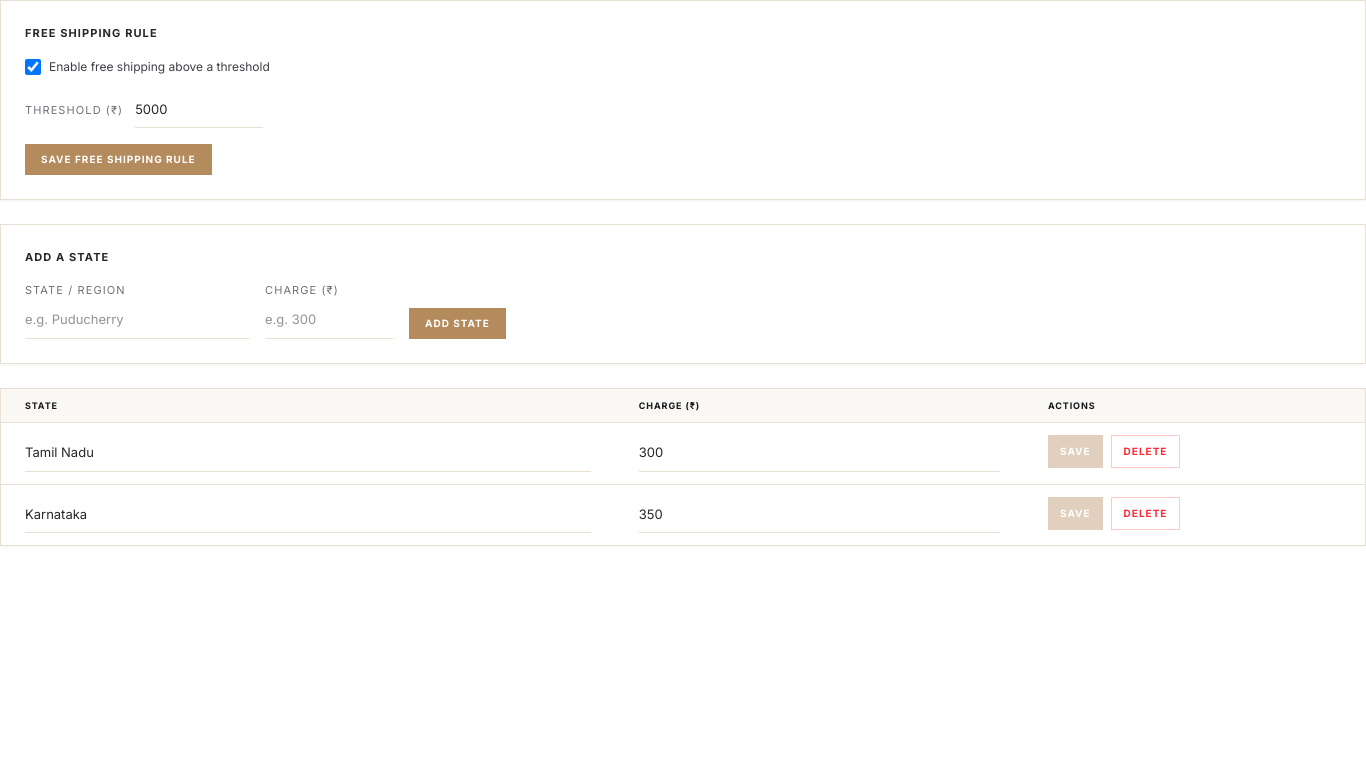
it: ShippingSettingsPage › rejects adding a state with no name
The image size is (1366, 768).
Type "400" into the field labelled "Charge (₹)" at (329, 320), box [265,302,393,338]
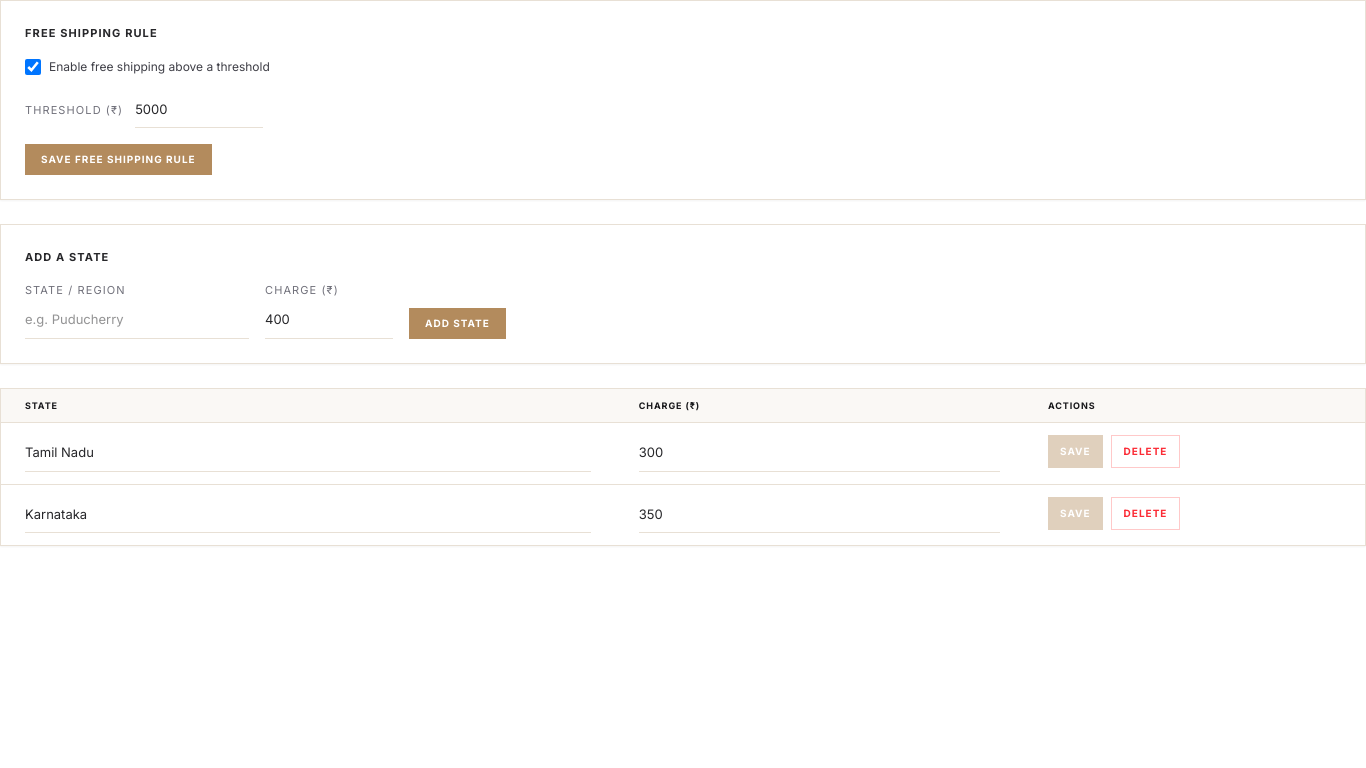
Click the button "Add State" at (457, 323), box [409,308,506,338]
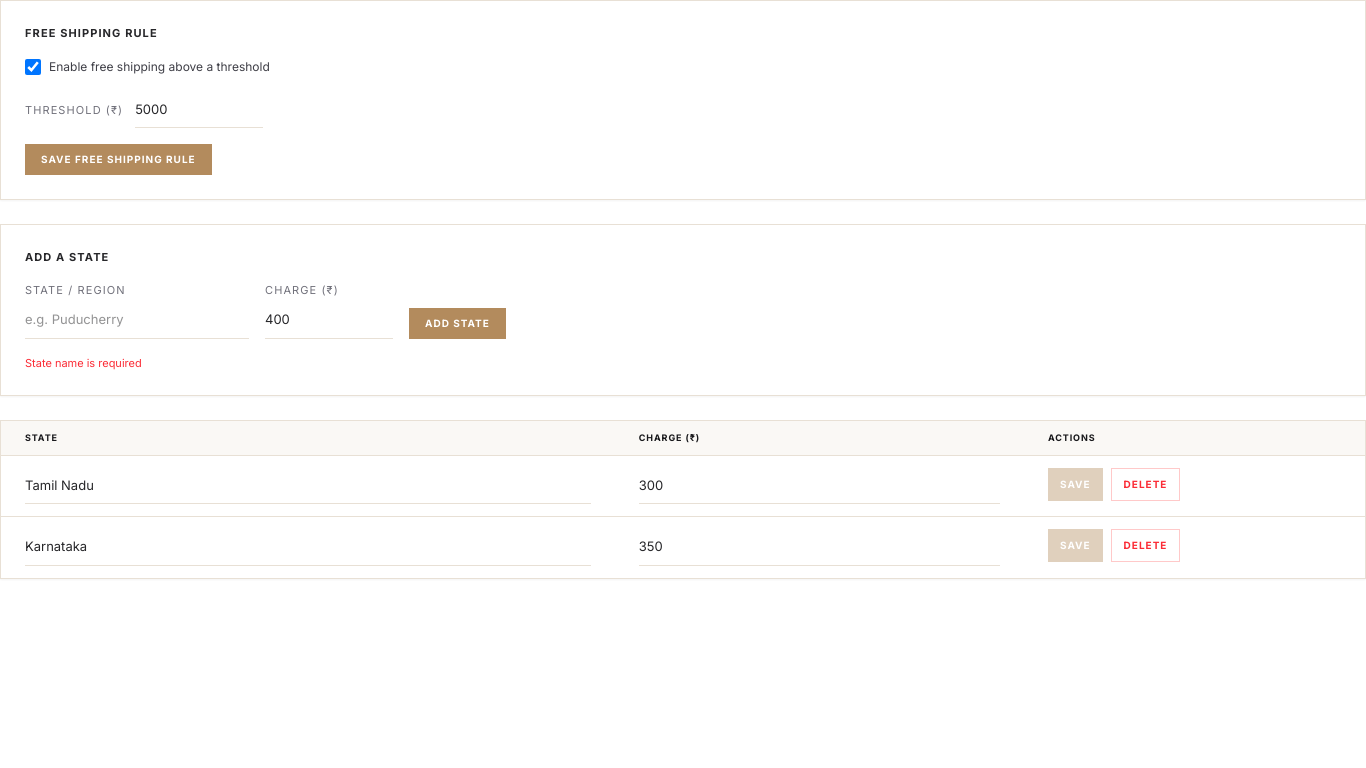
Expected: the text "State name is required" is shown, [25,356,142,370]
